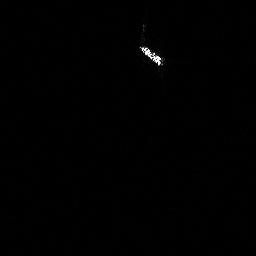ship: (137, 43, 165, 67)
